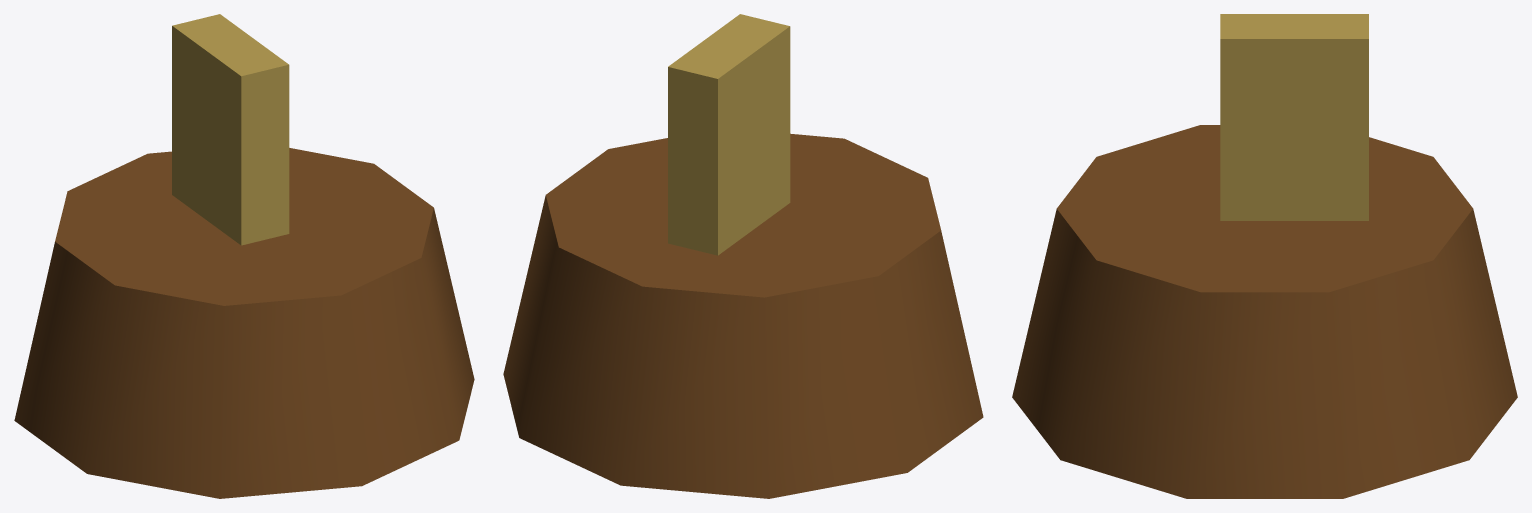
The model's file is head.glb.
3 views of the same model, side by side, from view 1: azimuth 30°, elevation 25°; view 2: azimuth 150°, elevation 25°; view 3: azimuth 270°, elevation 25° (orthographic). The views are drawn at different scales.
Parts seen in each view (by area): view 1: helmet, crest; view 2: helmet, crest; view 3: helmet, crest.
Part boxes in pixels (x1=…): helmet: x1=14, y1=148, x2=474, y2=498; crest: x1=172, y1=14, x2=289, y2=245; helmet: x1=503, y1=133, x2=983, y2=498; crest: x1=668, y1=14, x2=790, y2=255; helmet: x1=1012, y1=125, x2=1517, y2=498; crest: x1=1220, y1=14, x2=1368, y2=220.
Bounding box in the file's own units: 0.6467 × 0.55 × 0.68.
